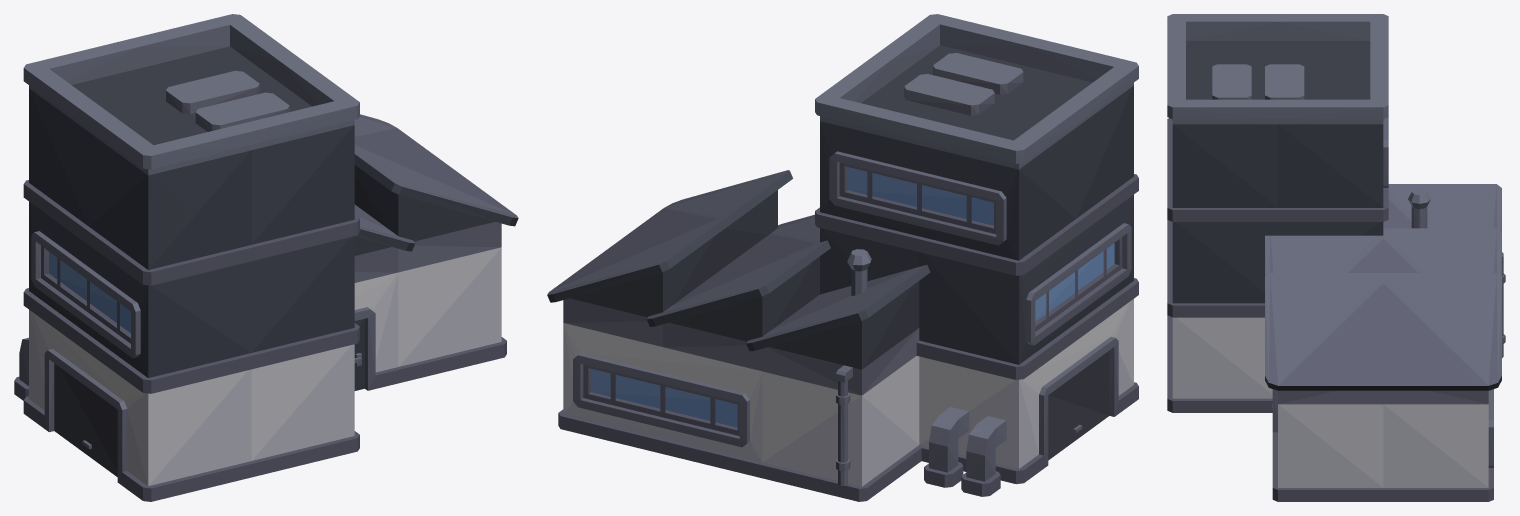
Rendered from warehouse_g.glb.
The picture shows the model from 3 angles, left to right: view 1: azimuth 30°, elevation 25°; view 2: azimuth 150°, elevation 25°; view 3: azimuth 270°, elevation 25°; orthographic projection. The views are drawn at different scales.
Parts seen in each view (by area): view 1: warehouse_g; view 2: warehouse_g; view 3: warehouse_g.
Part boxes in pixels (x1,y1,x2,y2): warehouse_g: [14, 14, 518, 501]; warehouse_g: [547, 14, 1138, 501]; warehouse_g: [1167, 14, 1505, 501].
Bounding box in the file's own units: 1.68 × 1.28 × 1.28.
